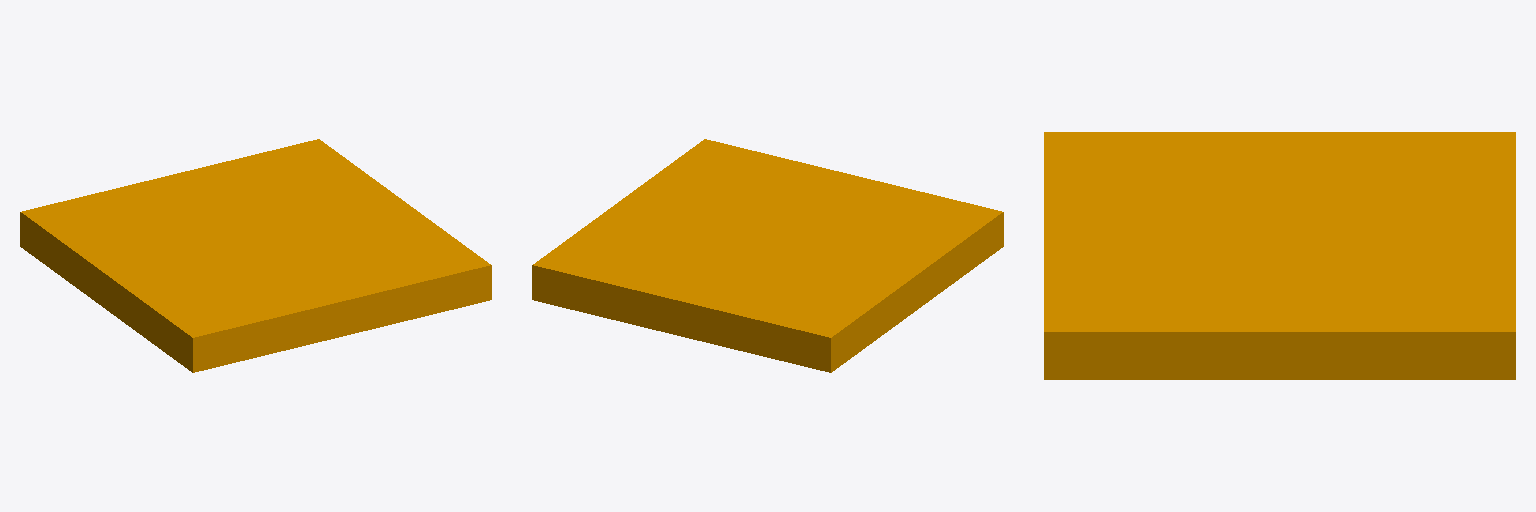
The robot description file, URDF, robot "apriltag_11_3611":
<robot name="apriltag_11_3611">

    <link name="apriltag_link_id11">
        <inertial>
            <origin xyz="0 0 0" rpy="0 0 0"/>
            <mass value="1.0"/>
            <inertia ixx="0.07461" ixy="0.0" ixz="0.0" iyy="0.5854" iyz="0.0" izz="0.02641"/>
        </inertial>
        <collision>
            <origin xyz="0 0 0" rpy="0 0 0"/>
            <geometry>
                <box size="0.2 0.2 0.1"/>
            </geometry>
        </collision>
        <visual>
            <origin xyz="0 0 0" rpy="0 0 0"/>
            <geometry>
                <mesh filename="package://apriltag_description/meshes/apriltag_11.dae"/>
            </geometry>
        </visual>
    </link>
    
    <gazebo reference="apriltag_link_id11">
        <kp>100000.0</kp>
        <kd>100000.0</kd>
        <mu1>0.1</mu1>
        <mu2>0.1</mu2>  
        <fdir1>1 0 0</fdir1>

           <!-- this tag may be unecessary if static is set to true
            (but using since may set static to false later)-->
        <gravity>0</gravity>
    </gazebo>

    <!-- Make sure that the reference="" attribute is not specified -->
    <gazebo>
        <static>true</static>
     
        
    </gazebo>
    

</robot>

--- What the picture shows (computed from the rendered views, not written in the file) ---
3 views of the same robot in one strip: view 1: azimuth 30°, elevation 25°; view 2: azimuth 150°, elevation 25°; view 3: azimuth 270°, elevation 25° (orthographic).
Model apriltag_11_3611 with 1 links and 0 joints (none), rooted at apriltag_link_id11, posed all joints at 0.
Visible links, largest first — view 1: apriltag_link_id11; view 2: apriltag_link_id11; view 3: apriltag_link_id11.
Link boxes in pixels (bbox=[...]): apriltag_link_id11: bbox=[20, 139, 491, 372]; apriltag_link_id11: bbox=[532, 139, 1003, 372]; apriltag_link_id11: bbox=[1044, 132, 1515, 379].
Bounding box of the posed robot: 0.16 × 0.16 × 0.018 m (x, y, z).
Meshes: 1 distinct files referenced, 1 mesh visuals loaded (1 Collada DAE).